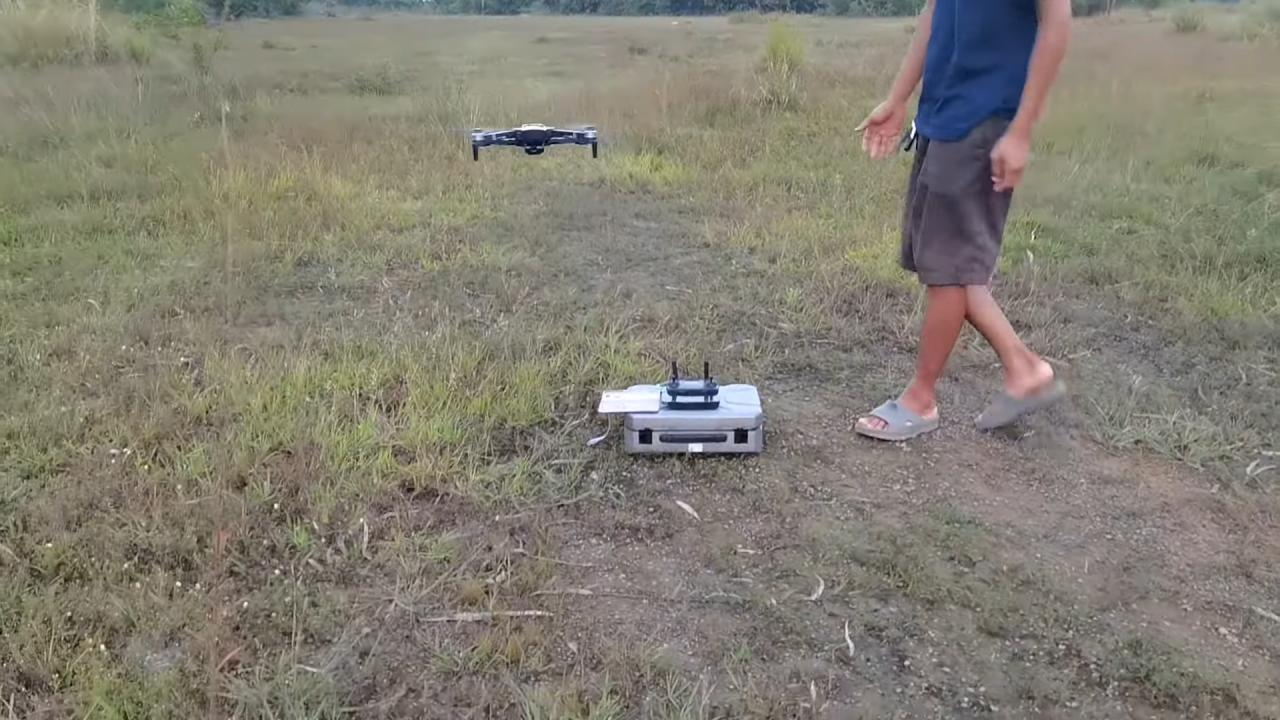Drone: (464, 112, 609, 171)
